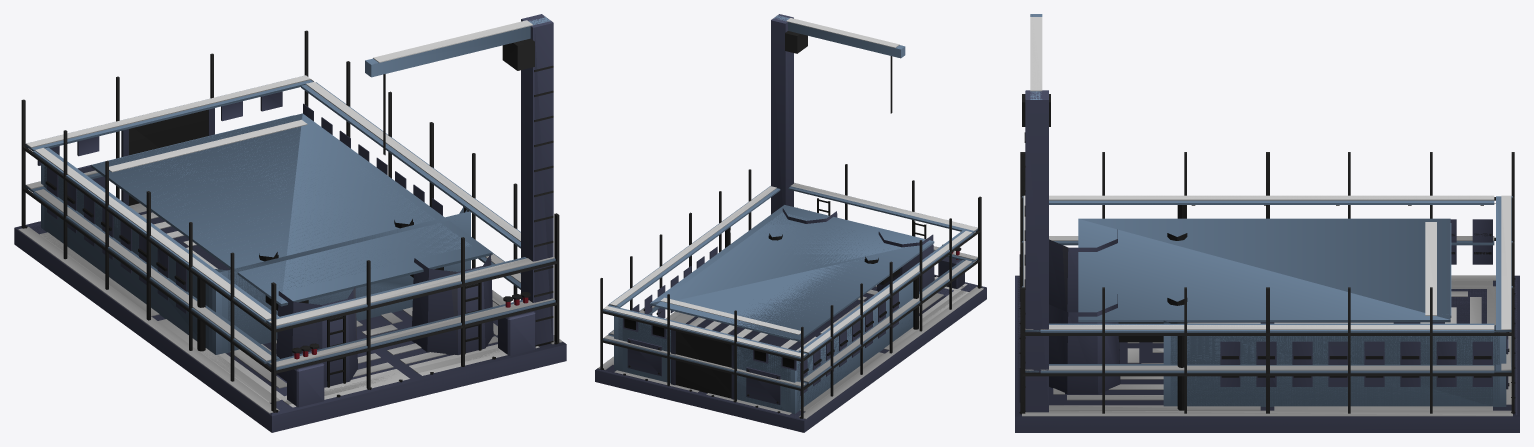
Rendered from veyran_power_plant_scaffolding.glb.
The picture shows the model from 3 angles, left to right: view 1: azimuth 30°, elevation 25°; view 2: azimuth 150°, elevation 25°; view 3: azimuth 270°, elevation 25°; orthographic projection. The views are drawn at different scales.
Visible parts, largest first — view 1: body (×3); view 2: body (×3); view 3: body (×3).
Boxes of the visible parts, x1=… form: body (×3): x1=14, y1=14, x2=566, y2=432; body (×3): x1=595, y1=14, x2=986, y2=432; body (×3): x1=1015, y1=14, x2=1519, y2=432.
Bounding box in the file's own units: 7.4 × 8.08 × 11.2.
